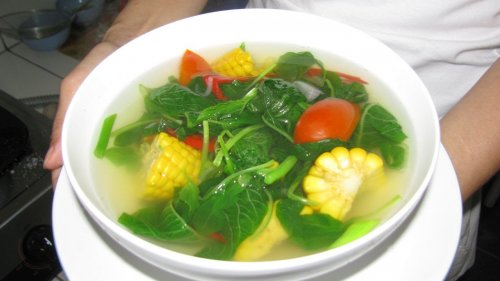Sayur Bayam: (80, 23, 426, 247)
